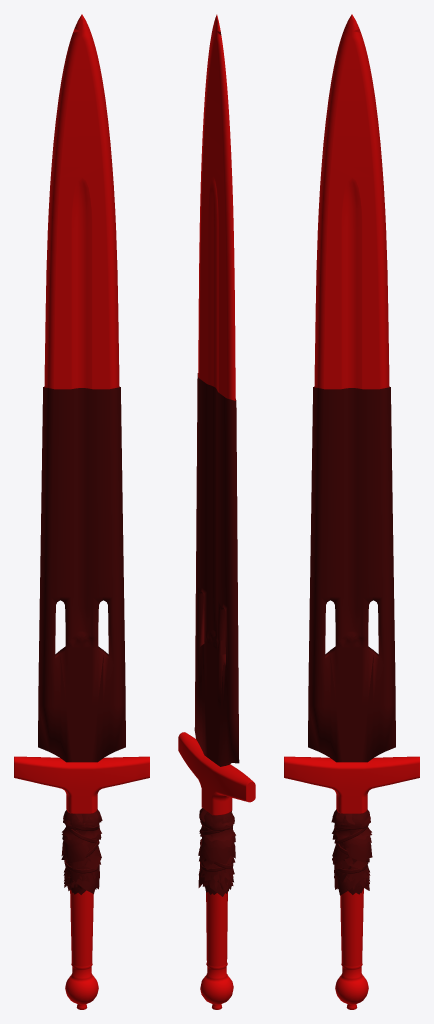
File: Sword.fbx
The picture shows the model from 3 angles, left to right: view 1: azimuth 90°, elevation 25°; view 2: azimuth 210°, elevation 25°; view 3: azimuth 270°, elevation 25°; orthographic projection.
Parts seen in each view (by area): view 1: The-Young-Wolf-s-Howl; view 2: The-Young-Wolf-s-Howl; view 3: The-Young-Wolf-s-Howl.
Boxes of the visible parts, bbox=[...] form: The-Young-Wolf-s-Howl: bbox=[14, 14, 149, 1009]; The-Young-Wolf-s-Howl: bbox=[178, 14, 255, 1009]; The-Young-Wolf-s-Howl: bbox=[284, 14, 419, 1009].
Size of the model in its own units: 5.01 by 139 by 17.19.
